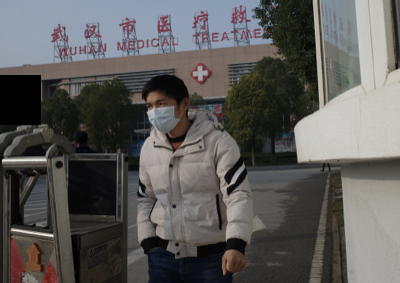with_mask: (145, 98, 181, 132)
